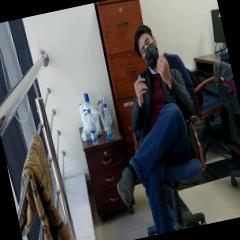not-gloved: (154, 54, 174, 90), (132, 74, 151, 108)
